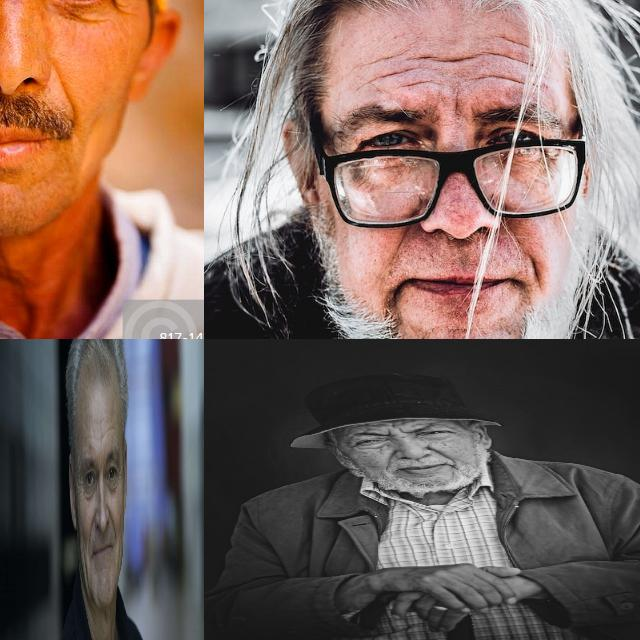crows_feet: (109, 0, 133, 19), (76, 478, 83, 502), (117, 469, 123, 489)
forehead: (444, 48, 536, 90), (364, 52, 426, 88), (102, 423, 118, 443), (84, 432, 94, 455)
frown_line: (448, 89, 464, 117), (384, 425, 405, 433)
gummy_smile: (56, 74, 84, 122), (392, 227, 413, 261), (426, 444, 451, 461), (381, 449, 400, 469), (107, 501, 117, 538), (88, 515, 95, 549)
masseter: (80, 546, 87, 592), (116, 548, 122, 586)
sad_smile: (526, 252, 546, 298)
